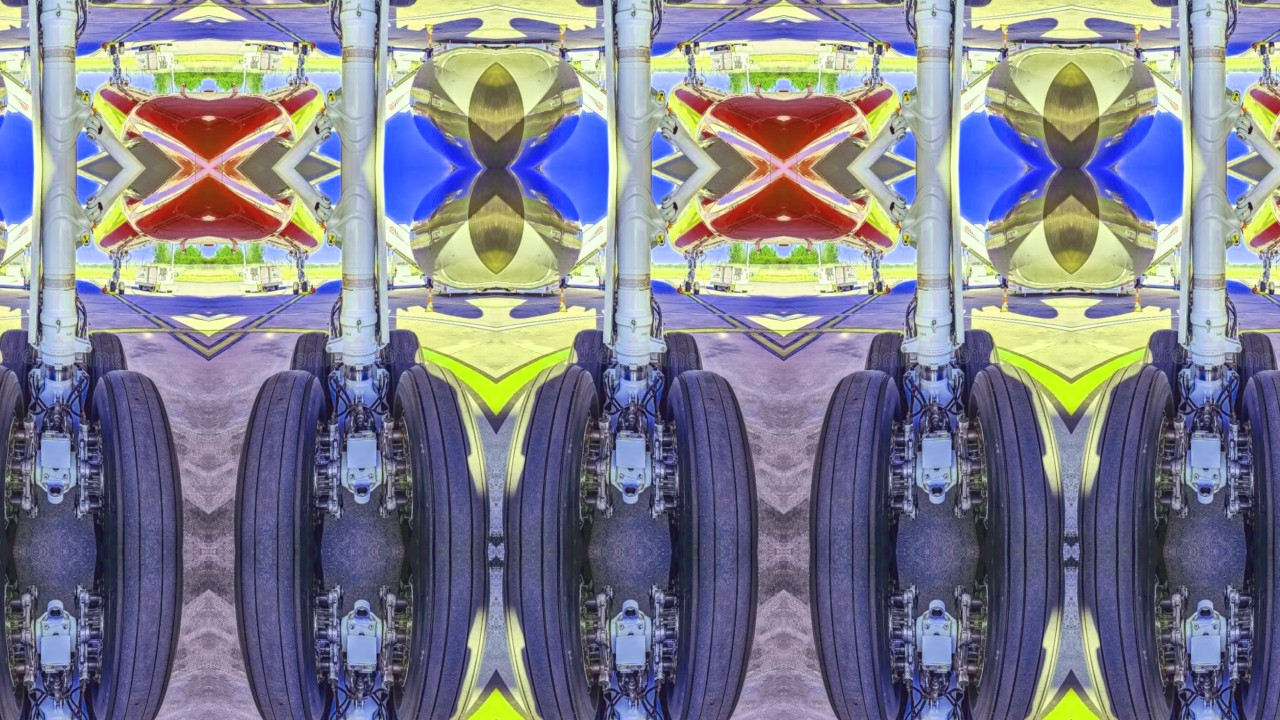chock: (107, 39, 114, 45), (302, 39, 309, 45), (683, 39, 690, 45), (878, 39, 885, 45), (1259, 39, 1266, 45), (107, 291, 114, 297), (302, 291, 309, 297), (683, 291, 690, 297), (878, 291, 885, 297), (1259, 291, 1266, 297)
wheel: (391, 361, 492, 552), (500, 361, 601, 552), (967, 361, 1068, 552), (1076, 361, 1177, 552), (89, 369, 183, 552), (233, 369, 327, 552), (665, 369, 759, 552), (809, 369, 903, 552), (391, 552, 492, 720), (500, 552, 601, 720), (967, 552, 1068, 720), (1076, 552, 1177, 720), (89, 552, 183, 720), (233, 552, 327, 720), (665, 552, 759, 720), (809, 552, 903, 720), (1241, 369, 1280, 552), (1241, 552, 1280, 720), (0, 361, 25, 552), (0, 552, 25, 720), (83, 330, 128, 419), (288, 330, 333, 419), (659, 330, 704, 419), (864, 330, 909, 419), (1235, 330, 1280, 419), (383, 328, 425, 407), (567, 328, 609, 407), (959, 328, 1001, 407), (1143, 328, 1185, 407), (0, 328, 33, 407), (83, 685, 128, 720), (288, 685, 333, 720), (659, 685, 704, 720), (864, 685, 909, 720), (1235, 685, 1280, 720), (383, 697, 425, 720), (567, 697, 609, 720), (959, 697, 1001, 720), (1143, 697, 1185, 720), (0, 697, 33, 720), (383, 0, 425, 8), (567, 0, 609, 8), (959, 0, 1001, 8), (1143, 0, 1185, 8), (117, 41, 123, 55), (293, 41, 299, 55), (693, 41, 699, 55), (869, 41, 875, 55), (1269, 41, 1275, 55), (117, 281, 123, 295), (293, 281, 299, 295), (693, 281, 699, 295), (869, 281, 875, 295), (1269, 281, 1275, 295), (108, 44, 114, 55), (302, 44, 308, 55), (684, 44, 690, 55), (878, 44, 884, 55), (1260, 44, 1266, 55), (108, 281, 114, 292), (302, 281, 308, 292), (684, 281, 690, 292), (878, 281, 884, 292), (1260, 281, 1266, 292)
